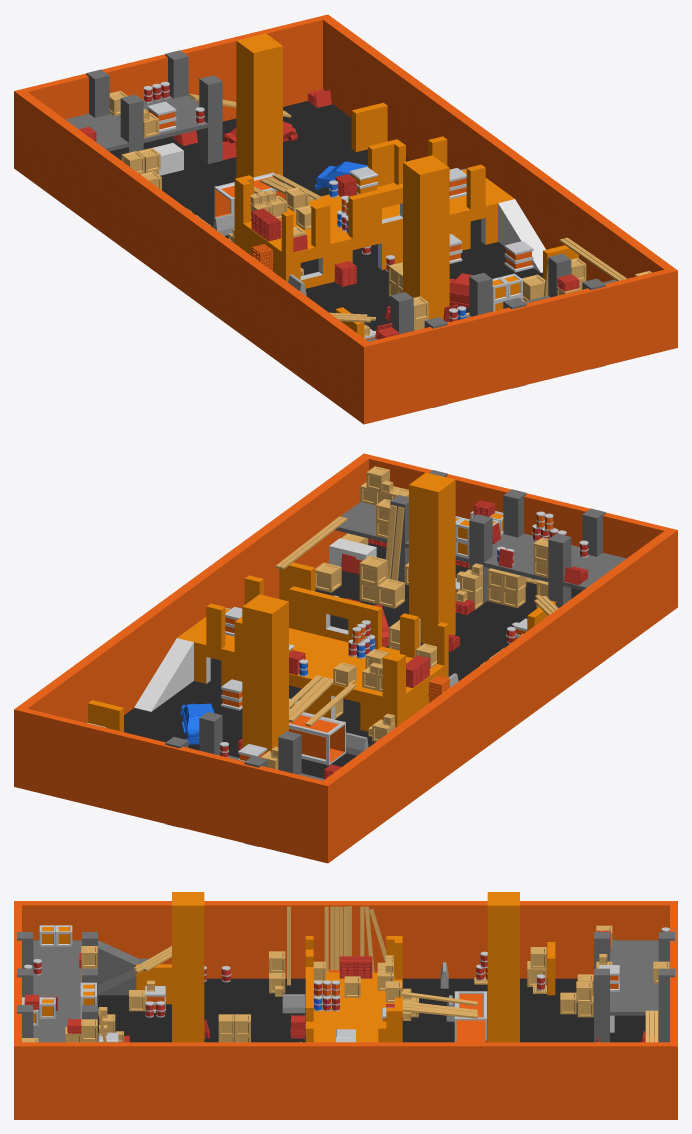
The model's file is map.fbx.
The picture shows the model from 3 angles, top to bottom: view 1: azimuth 30°, elevation 25°; view 2: azimuth 150°, elevation 25°; view 3: azimuth 270°, elevation 25°; orthographic projection. The views are drawn at different scales.
Visible parts, largest first — view 1: floors, room, Plane, Cube.016, obj.048, obj.049, Cube.004, Cube.001, obj.004, Cube.005, BigBox.004, Cube.011 (+2 smaller); view 2: floors, room, Plane, Cube.004, obj.048, obj.049, Cube.016, Cube.002, Cube.005, obj.002, obj.004, Cube.017 (+4 smaller); view 3: floors, Plane, Cube.016, Cube.004, room, obj.048, obj.049, up2, Cube.005, Cube.030, obj.024, Cube.023 (+17 smaller).
Part boxes in pixels (x1,y1,x2,y2): floors: (14,14,677,424); room: (234,136,514,288); Plane: (110,101,542,330); Cube.016: (65,50,222,164); obj.048: (403,155,449,319); obj.049: (236,33,282,178); Cube.004: (367,253,616,407); Cube.001: (498,199,545,272); obj.004: (351,102,387,151); Cube.005: (214,172,286,217); BigBox.004: (504,241,533,272); Cube.011: (153,143,183,175); floors: (14,453,677,863); room: (177,575,448,731); Plane: (124,543,581,778); Cube.004: (335,470,626,608); obj.048: (409,472,455,645); obj.049: (242,594,288,752); Cube.016: (165,712,323,846); Cube.002: (134,638,193,711); Cube.005: (289,709,345,765); obj.002: (279,562,315,601); obj.004: (88,700,123,731); Cube.017: (329,538,376,566); floors: (14,901,677,1119); Plane: (98,978,658,1042); Cube.016: (594,932,674,1042); Cube.004: (17,932,97,1042); room: (305,936,402,1042); obj.048: (172,892,204,1042); obj.049: (487,892,519,1042); up2: (98,940,148,995); Cube.005: (454,991,487,1042); Cube.030: (330,906,347,969); obj.024: (136,964,171,1004); Cube.023: (360,906,374,972).
Size of the model in its own units: 8.5 by 4.05 by 16.4.
